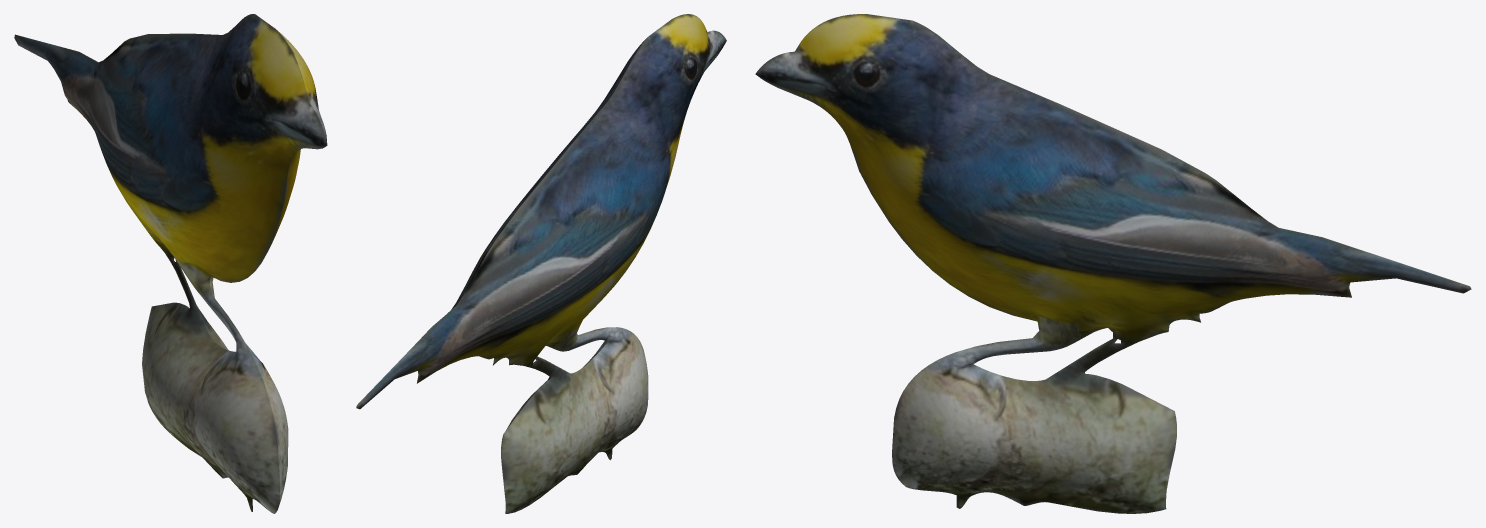
Rendered from 1800-removebg-preview.gltf.
3 renders of one model, left to right at view 1: azimuth 30°, elevation 25°; view 2: azimuth 150°, elevation 25°; view 3: azimuth 270°, elevation 25°, orthographic. The views are drawn at different scales.
Parts seen in each view (by area): view 1: node1; view 2: node1; view 3: node1.
Part boxes in pixels (box(x1,y1,x2,y2)): node1: box(14, 14, 327, 513); node1: box(356, 14, 726, 513); node1: box(755, 14, 1471, 513).
Bounding box in the file's own units: 0.2167 × 0.8871 × 1.19.
Materials: 1 (1 with a texture image).
